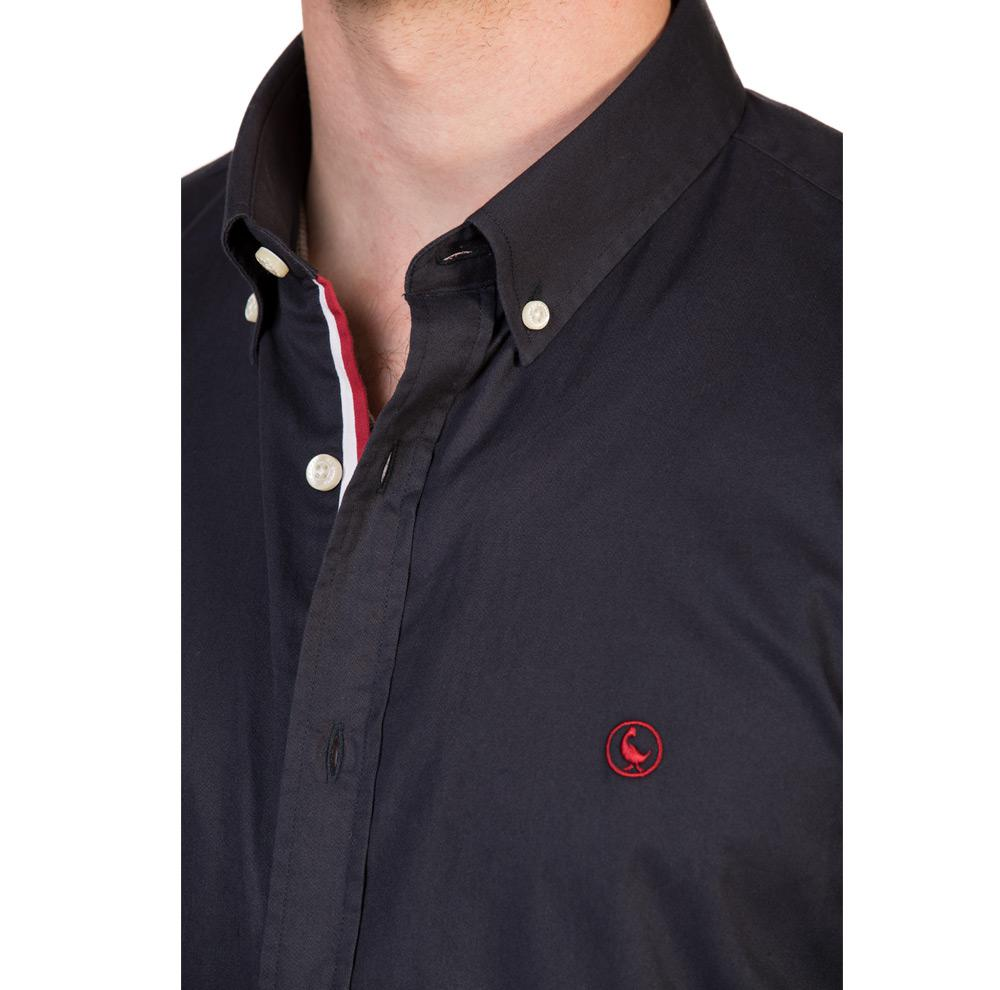teeshirt: (177, 32, 863, 990)
